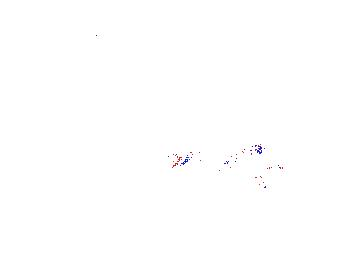X-ray fish: (107, 206, 166, 230)
redtail glassfish: (169, 141, 266, 173), (255, 164, 305, 202)
